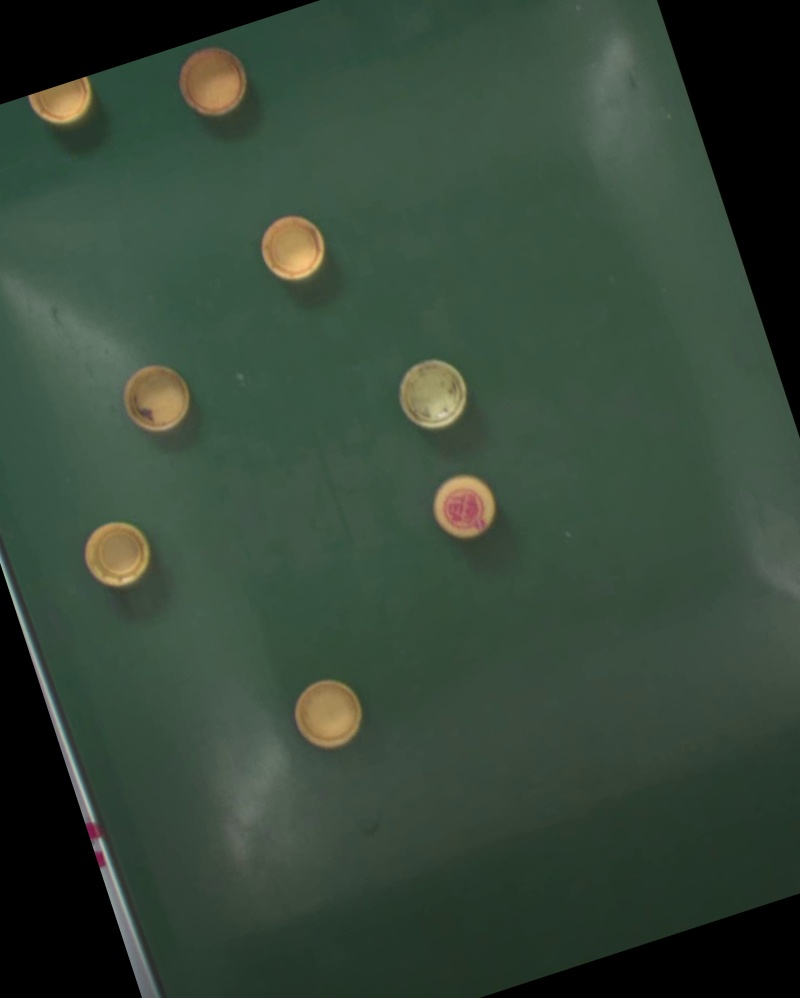Others: (391, 351, 476, 437), (286, 672, 371, 758), (251, 205, 335, 291), (172, 40, 256, 126), (115, 358, 199, 443), (76, 513, 160, 597), (423, 467, 505, 548), (25, 76, 101, 134)
